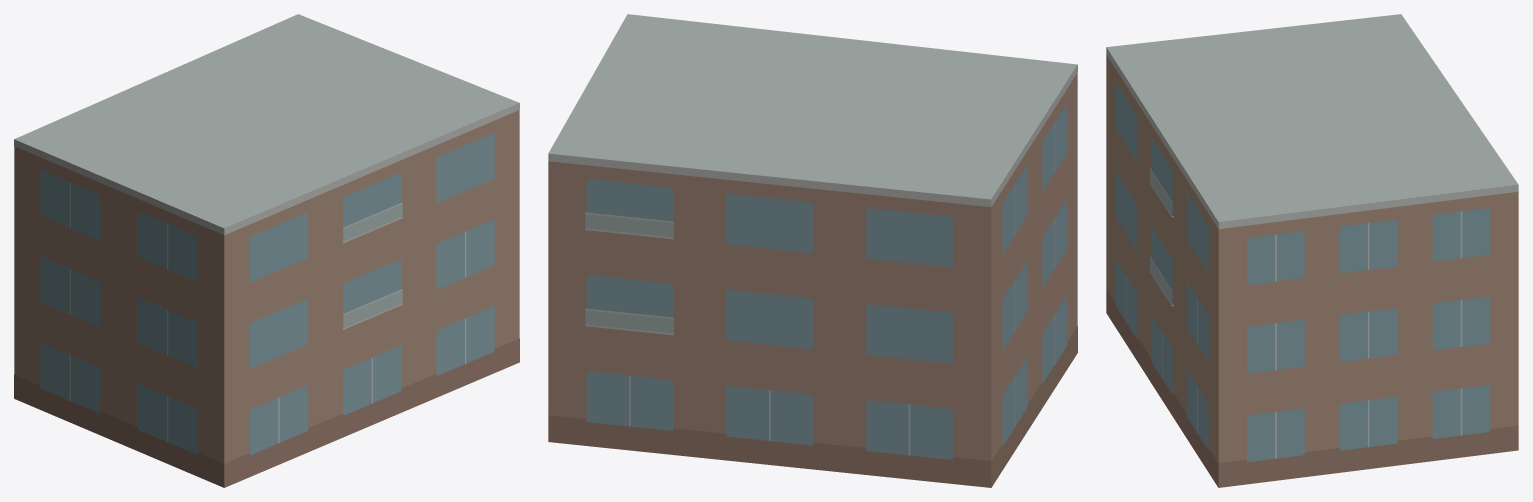
File: survey-upis-32928064.glb
3 views of the same model, side by side, from view 1: azimuth 30°, elevation 25°; view 2: azimuth 150°, elevation 25°; view 3: azimuth 270°, elevation 25° (orthographic). The views are drawn at different scales.
Visible parts, largest first — view 1: survey-upis-32928064.tmp; view 2: survey-upis-32928064.tmp; view 3: survey-upis-32928064.tmp.
Boxes of the visible parts, <box> form: survey-upis-32928064.tmp: <box>14,14,519,487</box>; survey-upis-32928064.tmp: <box>548,14,1077,487</box>; survey-upis-32928064.tmp: <box>1106,14,1518,487</box>.
Bounding box in the file's own units: 15.38 × 9.15 × 12.88.
